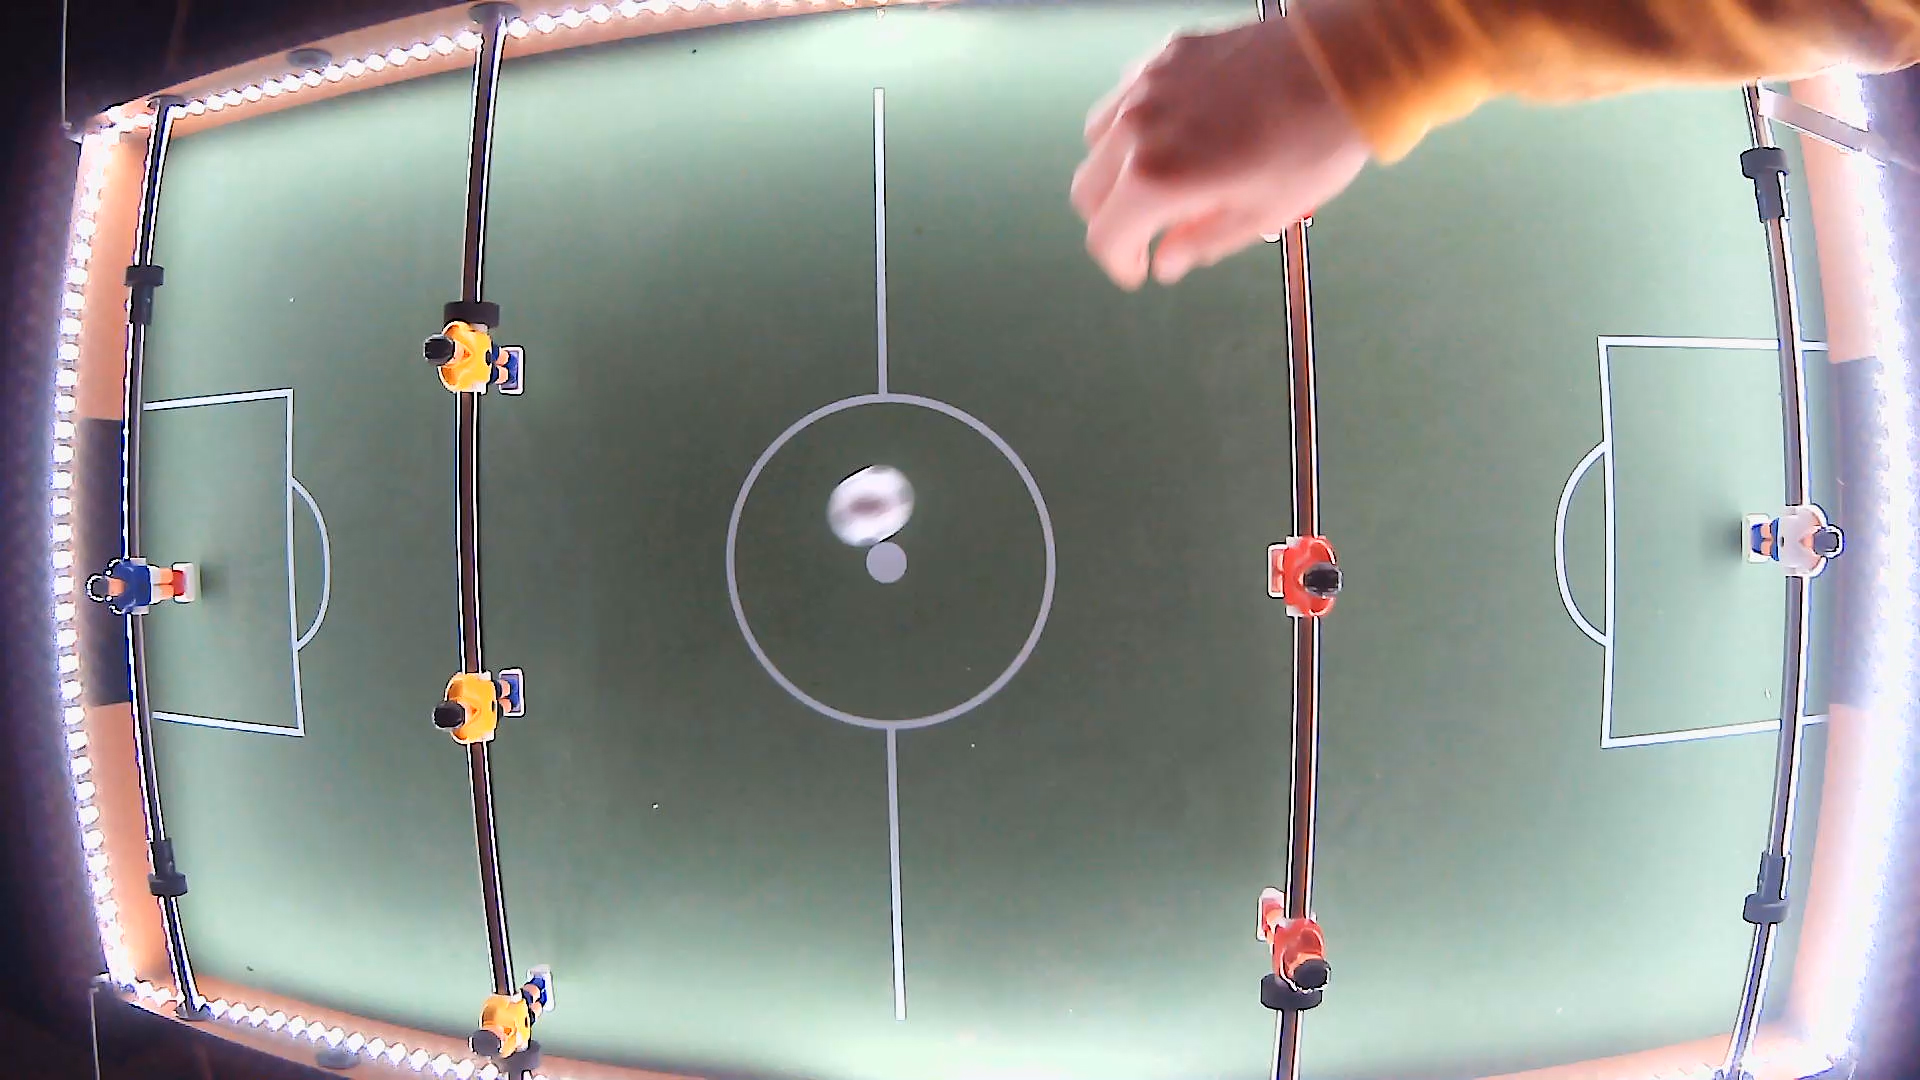Foosball: (828, 464, 916, 549)
